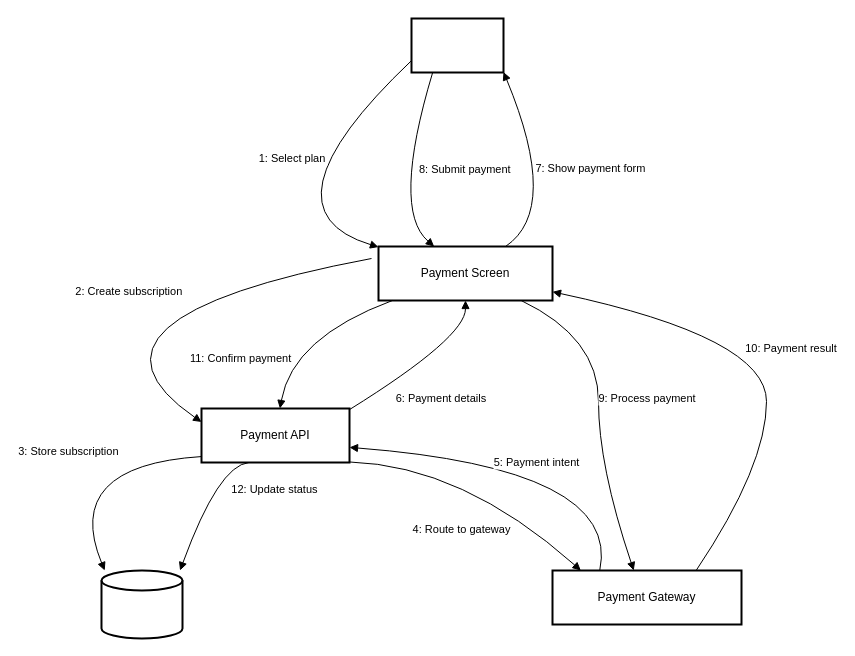
Image size: 855x656. Some labels were removed from this diagram. The shapes that lost their labels are listed below. From the top down, each one's box as (x1, y1, x2, y2) in pixels, then its label:
(410, 17, 504, 73): User
(100, 569, 183, 639): Database
